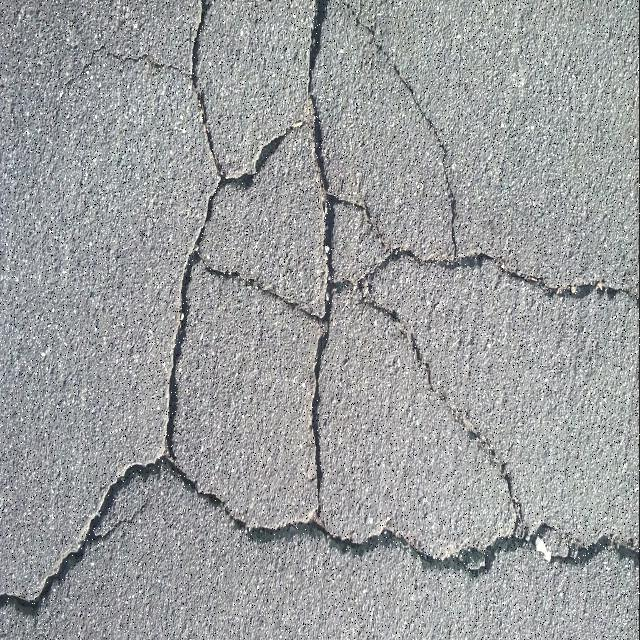Crack: (0, 0, 323, 617), (309, 0, 640, 573)
